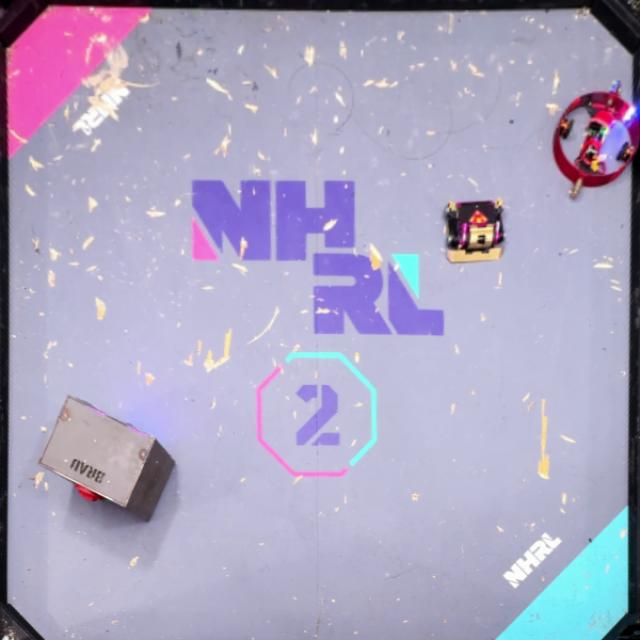housebot: (37, 394, 177, 523)
robot: (552, 80, 640, 198), (445, 200, 506, 262)
